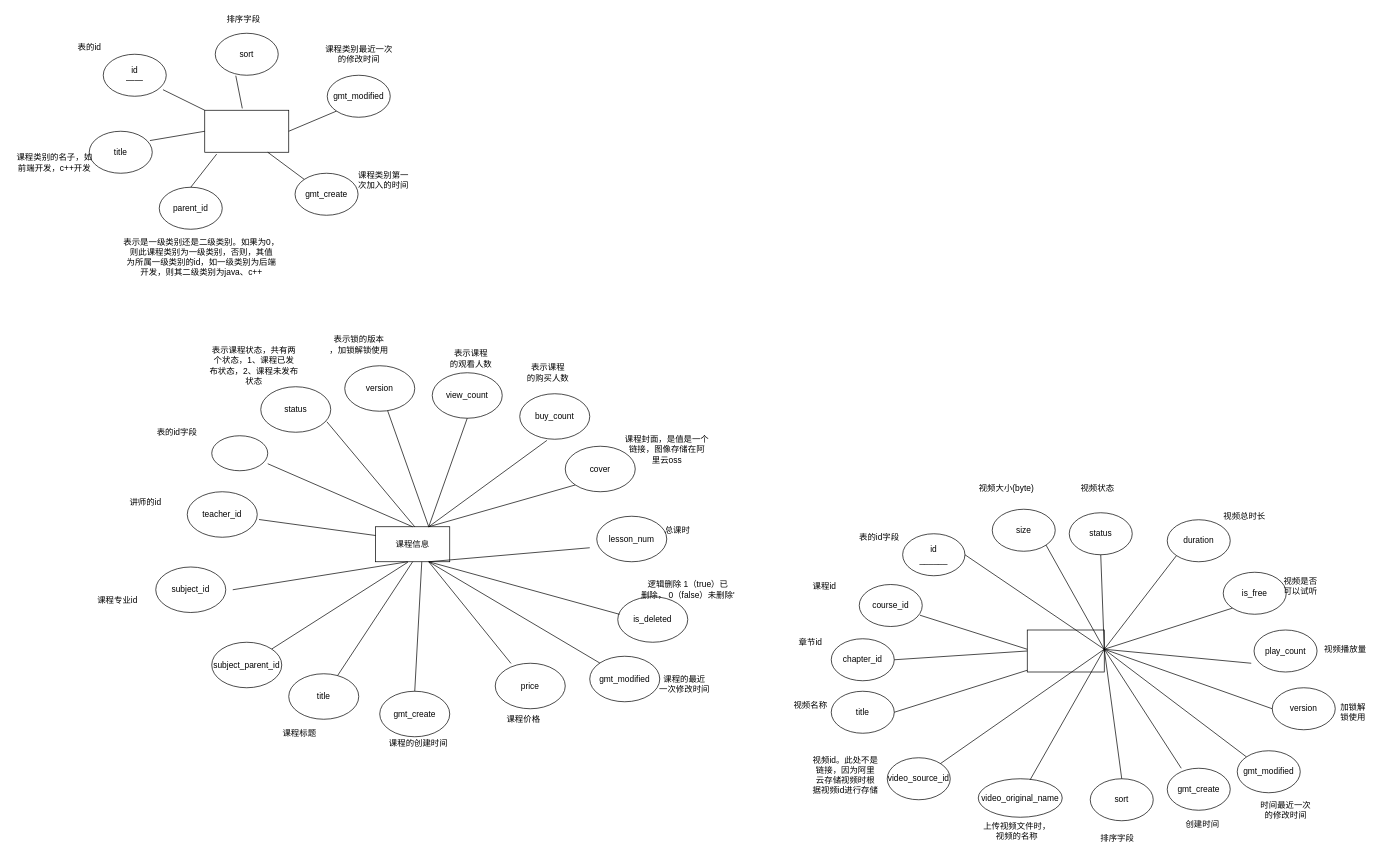
The diagram is 1385 pixels wide and 857 high, and some of its shapes have lost their labels. Each missing label, with the box of its shape:
id _______: (211, 435, 268, 471)
视频: (1027, 629, 1104, 672)
课程类别: (204, 110, 289, 152)
